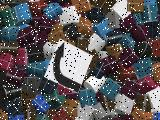Right: (44, 39, 93, 94)
